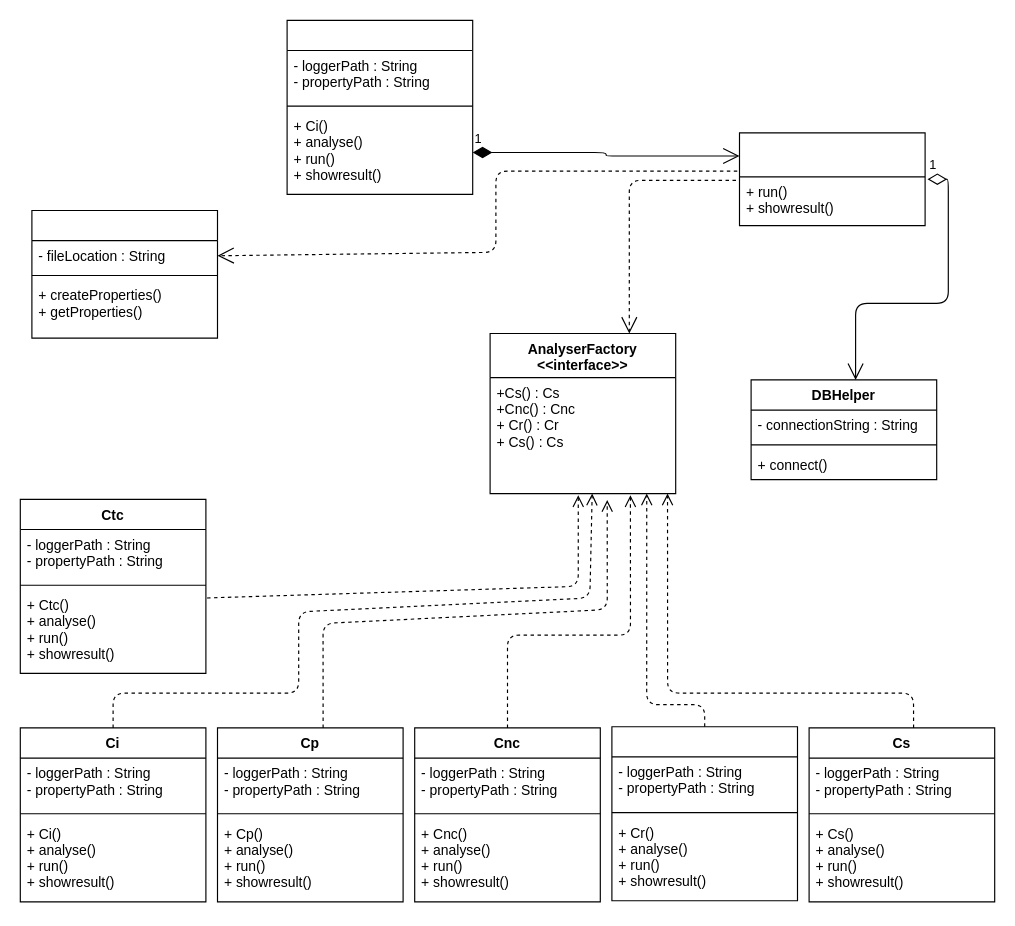
Some shapes in this 1015 by 926 pixel diagram are drawn without their labels. Here are the shapes that lost their labels. From the top down, the box of each, then its label:
(286, 19, 473, 194): Main
(738, 132, 925, 226): Analyser
(31, 209, 217, 338): PropertiesImpl
(611, 726, 798, 901): Cr
